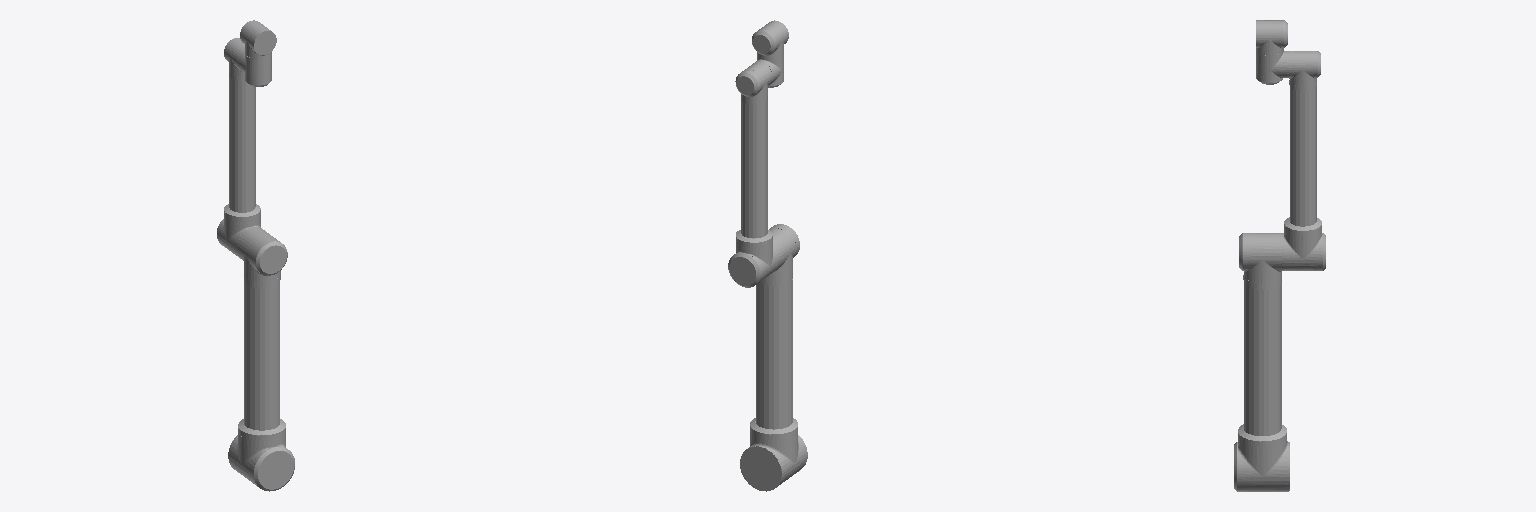
URDF robot description (utra6_1500):
<?xml version="1.0" encoding="utf-8"?>
<!-- =================================================================================== -->
<!-- |    This document was autogenerated by xacro from ../urdf/utra6_1500_robot.urdf.xacro | -->
<!-- |    EDITING THIS FILE BY HAND IS NOT RECOMMENDED                                 | -->
<!-- =================================================================================== -->
<robot name="utra6_1500">
  <!--
    Author: [author] <[email redacted]> <[email redacted]>
    Contributers:
  -->
  <link name="world"/>
  <joint name="world_joint" type="fixed">
    <parent link="world"/>
    <child link="base_link"/>
    <origin rpy="0 0 0" xyz="0 0 0"/>
  </joint>
  <material name="Black">
    <color rgba="0.0 0.0 0.0 1.0"/>
  </material>
  <material name="Red">
    <color rgba="0.8 0.0 0.0 1.0"/>
  </material>
  <material name="White">
    <color rgba="1.0 1.0 1.0 1.0"/>
  </material>
  <material name="Silver">
    <color rgba="0.7 0.7 0.7 1.0"/>
  </material>
  <link name="base_link">
    <inertial>
      <origin rpy="0 0 0" xyz="0 0 0"/>
      <mass value="1e-05"/>
      <inertia ixx="0" ixy="0" ixz="0" iyy="0" iyz="0" izz="0"/>
    </inertial>
    <visual>
      <origin rpy="0 0 0" xyz="0 0 0"/>
      <geometry>
        <mesh filename="package://arm_description/meshes/utra6_1500/visual/base.STL"/>
      </geometry>
      <material name="Silver"/>
    </visual>
    <collision>
      <origin rpy="0 0 0" xyz="0 0 0"/>
      <geometry>
        <mesh filename="package://arm_description/meshes/utra6_1500/visual/base.STL"/>
      </geometry>
    </collision>
  </link>
  <joint name="joint1" type="revolute">
    <origin rpy="0 0 0" xyz="0 0 0"/>
    <parent link="base_link"/>
    <child link="link_1"/>
    <axis xyz="0 0 1"/>
    <limit effort="0" lower="-6.28318530718" upper="6.28318530718" velocity="3.14"/>
    <dynamics damping="0" friction="0"/>
  </joint>
  <link name="link_1">
    <inertial>
      <origin rpy="0 0 0" xyz="0 0 0"/>
      <mass value="1e-05"/>
      <inertia ixx="0" ixy="0" ixz="0" iyy="0" iyz="0" izz="0"/>
    </inertial>
    <visual>
      <origin rpy="0 0 0" xyz="0 0 0"/>
      <geometry>
        <mesh filename="package://arm_description/meshes/utra6_1500/visual/link1.STL"/>
      </geometry>
      <material name="Silver"/>
    </visual>
    <collision>
      <origin rpy="0 0 0" xyz="0 0 0"/>
      <geometry>
        <mesh filename="package://arm_description/meshes/utra6_1500/visual/link1.STL"/>
      </geometry>
    </collision>
  </link>
  <joint name="joint2" type="revolute">
    <origin rpy="0 0 0" xyz="0 0 0.1455"/>
    <parent link="link_1"/>
    <child link="link_2"/>
    <axis xyz="0 -1 0"/>
    <limit effort="0" lower="-6.28318530718" upper="6.28318530718" velocity="3.14"/>
    <dynamics damping="0" friction="0"/>
  </joint>
  <link name="link_2">
    <inertial>
      <origin rpy="0 0 0" xyz="0 0 0"/>
      <mass value="1e-05"/>
      <inertia ixx="0" ixy="0" ixz="0" iyy="0" iyz="0" izz="0"/>
    </inertial>
    <visual>
      <origin rpy="0 0 0" xyz="0 0 0"/>
      <geometry>
        <mesh filename="package://arm_description/meshes/utra6_1500/visual/link2.STL"/>
      </geometry>
      <material name="Silver"/>
    </visual>
    <collision>
      <origin rpy="0 0 0" xyz="0 0 0"/>
      <geometry>
        <mesh filename="package://arm_description/meshes/utra6_1500/visual/link2.STL"/>
      </geometry>
    </collision>
  </link>
  <joint name="joint3" type="revolute">
    <origin rpy="0 0 0" xyz="0 0 0.7455"/>
    <parent link="link_2"/>
    <child link="link_3"/>
    <axis xyz="0 1 0"/>
    <limit effort="0" lower="-6.28318530718" upper="6.28318530718" velocity="3.14"/>
    <dynamics damping="0" friction="0"/>
  </joint>
  <link name="link_3">
    <inertial>
      <origin rpy="0 0 0" xyz="0 0 0"/>
      <mass value="1e-05"/>
      <inertia ixx="0" ixy="0" ixz="0" iyy="0" iyz="0" izz="0"/>
    </inertial>
    <visual>
      <origin rpy="0 0 0" xyz="0 0 0"/>
      <geometry>
        <mesh filename="package://arm_description/meshes/utra6_1500/visual/link3.STL"/>
      </geometry>
      <material name="Silver"/>
    </visual>
    <collision>
      <origin rpy="0 0 0" xyz="0 0 0"/>
      <geometry>
        <mesh filename="package://arm_description/meshes/utra6_1500/visual/link3.STL"/>
      </geometry>
    </collision>
  </link>
  <joint name="joint4" type="revolute">
    <origin rpy="0 0 0" xyz="0 0 0.650"/>
    <parent link="link_3"/>
    <child link="link_4"/>
    <axis xyz="0 -1 0"/>
    <limit effort="0" lower="-6.28318530718" upper="6.28318530718" velocity="3.14"/>
    <dynamics damping="0" friction="0"/>
  </joint>
  <link name="link_4">
    <inertial>
      <origin rpy="0 0 0" xyz="0 0 0"/>
      <mass value="1e-05"/>
      <inertia ixx="0" ixy="0" ixz="0" iyy="0" iyz="0" izz="0"/>
    </inertial>
    <visual>
      <origin rpy="0 0 0" xyz="0 0 0"/>
      <geometry>
        <mesh filename="package://arm_description/meshes/utra6_1500/visual/link4.STL"/>
      </geometry>
      <material name="Silver"/>
    </visual>
    <collision>
      <origin rpy="0 0 0" xyz="0 0 0"/>
      <geometry>
        <mesh filename="package://arm_description/meshes/utra6_1500/visual/link4.STL"/>
      </geometry>
    </collision>
  </link>
  <joint name="joint5" type="revolute">
    <origin rpy="0 0 0" xyz="0 -0.1695 0.1045"/>
    <parent link="link_4"/>
    <child link="link_5"/>
    <axis xyz="0 0 1"/>
    <limit effort="0" lower="-6.28318530718" upper="6.28318530718" velocity="3.14"/>
    <dynamics damping="0" friction="0"/>
  </joint>
  <link name="link_5">
    <inertial>
      <mass value="1e-05"/>
      <origin rpy="0 0 0" xyz="0 0 0"/>
      <inertia ixx="0" ixy="0" ixz="0" iyy="0" iyz="0" izz="0"/>
    </inertial>
    <visual>
      <origin rpy="0 0 0" xyz="0 0 0"/>
      <geometry>
        <mesh filename="package://arm_description/meshes/utra6_1500/visual/link5.STL"/>
      </geometry>
      <material name="Silver"/>
    </visual>
    <collision>
      <origin rpy="0 0 0" xyz="0 0 0"/>
      <geometry>
        <mesh filename="package://arm_description/meshes/utra6_1500/visual/link5.STL"/>
      </geometry>
    </collision>
  </link>
  <joint name="joint6" type="revolute">
    <origin rpy="1.57079632679 0 0" xyz="0 -0.0745 0"/>
    <parent link="link_5"/>
    <child link="link_6"/>
    <axis xyz="0 0 1"/>
    <limit effort="0" lower="-6.28318530718" upper="6.28318530718" velocity="3.14"/>
    <dynamics damping="0" friction="0"/>
  </joint>
  <link name="link_6">
    <inertial>
      <mass value="1e-05"/>
      <origin rpy="0 0 0" xyz="0 0 0"/>
      <inertia ixx="0" ixy="0" ixz="0" iyy="0" iyz="0" izz="0"/>
    </inertial>
    <visual>
      <origin rpy="0 0 0" xyz="0 0 0"/>
      <geometry>
        <mesh filename="package://arm_description/meshes/utra6_1500/visual/link6.STL"/>
      </geometry>
      <material name="Silver"/>
    </visual>
    <collision>
      <origin rpy="0 0 0" xyz="0 0 0"/>
      <geometry>
        <mesh filename="package://arm_description/meshes/utra6_1500/visual/link6.STL"/>
      </geometry>
    </collision>
  </link>
  <transmission name="tran1">
    <type>transmission_interface/SimpleTransmission</type>
    <joint name="joint1">
      <hardwareInterface>hardware_interface/PositionJointInterface</hardwareInterface>
    </joint>
    <actuator name="motor1">
      <hardwareInterface>hardware_interface/PositionJointInterface</hardwareInterface>
      <mechanicalReduction>1</mechanicalReduction>
    </actuator>
  </transmission>
  <transmission name="tran1">
    <type>transmission_interface/SimpleTransmission</type>
    <joint name="joint2">
      <hardwareInterface>hardware_interface/PositionJointInterface</hardwareInterface>
    </joint>
    <actuator name="motor1">
      <hardwareInterface>hardware_interface/PositionJointInterface</hardwareInterface>
      <mechanicalReduction>1</mechanicalReduction>
    </actuator>
  </transmission>
  <transmission name="tran1">
    <type>transmission_interface/SimpleTransmission</type>
    <joint name="joint3">
      <hardwareInterface>hardware_interface/PositionJointInterface</hardwareInterface>
    </joint>
    <actuator name="motor1">
      <hardwareInterface>hardware_interface/PositionJointInterface</hardwareInterface>
      <mechanicalReduction>1</mechanicalReduction>
    </actuator>
  </transmission>
  <transmission name="tran1">
    <type>transmission_interface/SimpleTransmission</type>
    <joint name="joint4">
      <hardwareInterface>hardware_interface/PositionJointInterface</hardwareInterface>
    </joint>
    <actuator name="motor1">
      <hardwareInterface>hardware_interface/PositionJointInterface</hardwareInterface>
      <mechanicalReduction>1</mechanicalReduction>
    </actuator>
  </transmission>
  <transmission name="tran1">
    <type>transmission_interface/SimpleTransmission</type>
    <joint name="joint5">
      <hardwareInterface>hardware_interface/PositionJointInterface</hardwareInterface>
    </joint>
    <actuator name="motor1">
      <hardwareInterface>hardware_interface/PositionJointInterface</hardwareInterface>
      <mechanicalReduction>1</mechanicalReduction>
    </actuator>
  </transmission>
  <transmission name="tran1">
    <type>transmission_interface/SimpleTransmission</type>
    <joint name="joint6">
      <hardwareInterface>hardware_interface/PositionJointInterface</hardwareInterface>
    </joint>
    <actuator name="motor1">
      <hardwareInterface>hardware_interface/PositionJointInterface</hardwareInterface>
      <mechanicalReduction>1</mechanicalReduction>
    </actuator>
  </transmission>
  <gazebo>
    <plugin filename="libgazebo_ros_control.so" name="gazebo_ros_control">
      <robotNamespace>/utra6_1500</robotNamespace>
      <robotSimType>gazebo_ros_control/DefaultRobotHWSim</robotSimType>
      <legacyModeNS>true</legacyModeNS>
    </plugin>
  </gazebo>
</robot>

--- Facts derived from the render (not from the file) ---
Views: 3 orthographic renders of the robot side by side, from view 1: azimuth 30°, elevation 25°; view 2: azimuth 150°, elevation 25°; view 3: azimuth 270°, elevation 25°.
Model utra6_1500 with 8 links and 7 joints (6 revolute, 1 fixed), rooted at world, posed every joint at zero.
Links seen in each view (by area): view 1: link_2, link_3, link_5, link_4; view 2: link_2, link_3, link_5; view 3: link_2, link_3, link_5, link_4.
Boxes of the visible links, left/top/right/bottom form: link_2: left=228, top=227, right=294, bottom=491; link_3: left=217, top=38, right=260, bottom=255; link_5: left=240, top=20, right=276, bottom=59; link_4: left=238, top=52, right=271, bottom=86; link_2: left=740, top=224, right=807, bottom=491; link_3: left=728, top=61, right=779, bottom=287; link_5: left=752, top=20, right=788, bottom=60; link_2: left=1234, top=233, right=1289, bottom=491; link_3: left=1284, top=51, right=1325, bottom=270; link_5: left=1256, top=20, right=1287, bottom=56; link_4: left=1256, top=51, right=1288, bottom=84.
Bounding box of the posed robot: 0.156 × 0.2915 × 1.62 m (x, y, z).
4 mesh visuals loaded from 7 distinct referenced files (4 binary STL); not drawn: 3 (reference not matched to a file when rendering).
